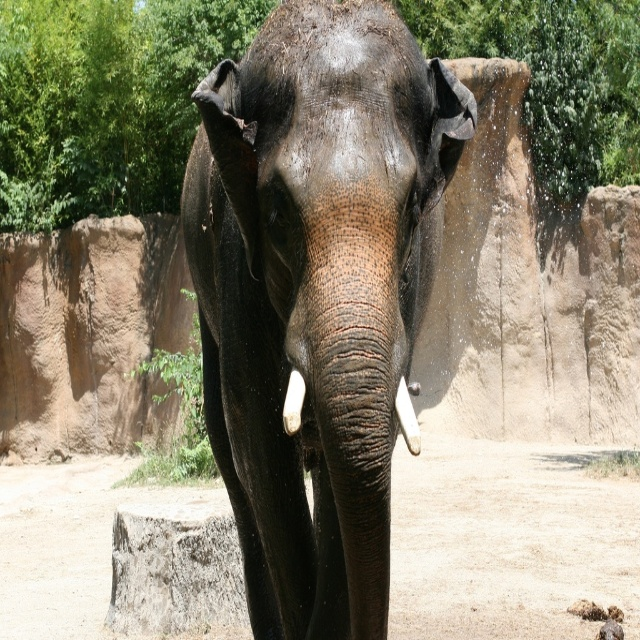Elephant: (180, 2, 479, 640)
